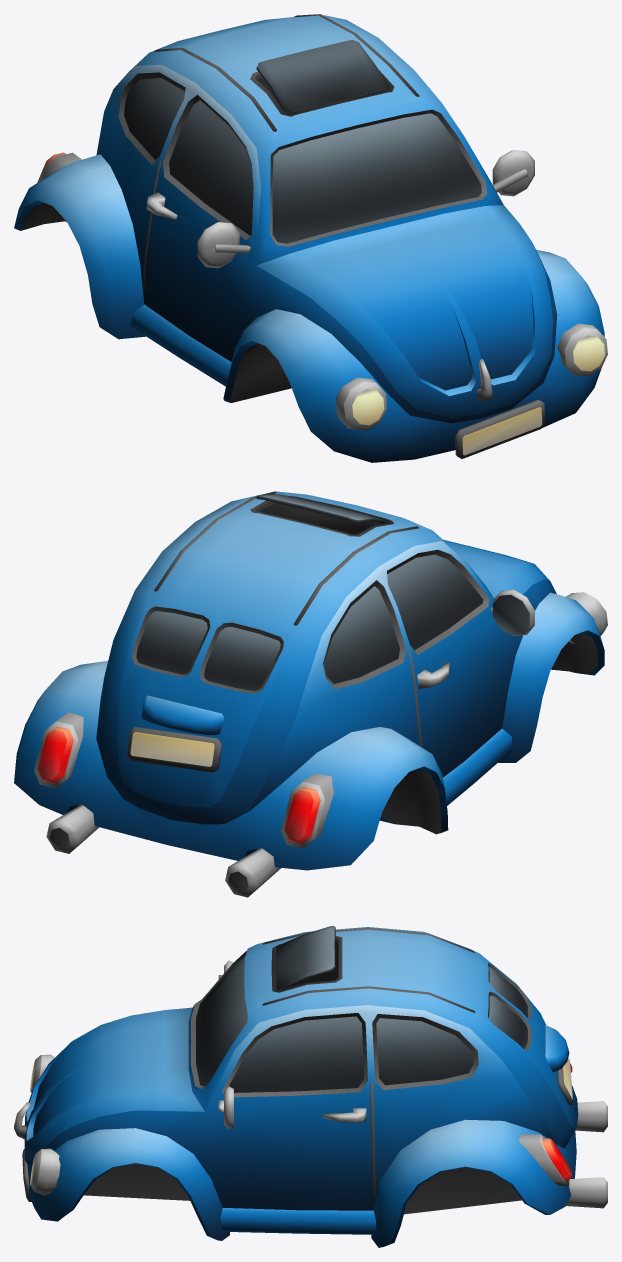
The model's file is Car_1A_Body.FBX.
The picture shows the model from 3 angles, top to bottom: view 1: azimuth 30°, elevation 25°; view 2: azimuth 150°, elevation 25°; view 3: azimuth 270°, elevation 25°; orthographic projection. The views are drawn at different scales.
Visible parts, largest first — view 1: Car_1A; view 2: Car_1A; view 3: Car_1A.
Part boxes in pixels (bbox=[...]): Car_1A: bbox=[14, 14, 607, 462]; Car_1A: bbox=[14, 491, 607, 897]; Car_1A: bbox=[14, 926, 607, 1247].
Size of the model in its own units: 90 by 66.33 by 149.
